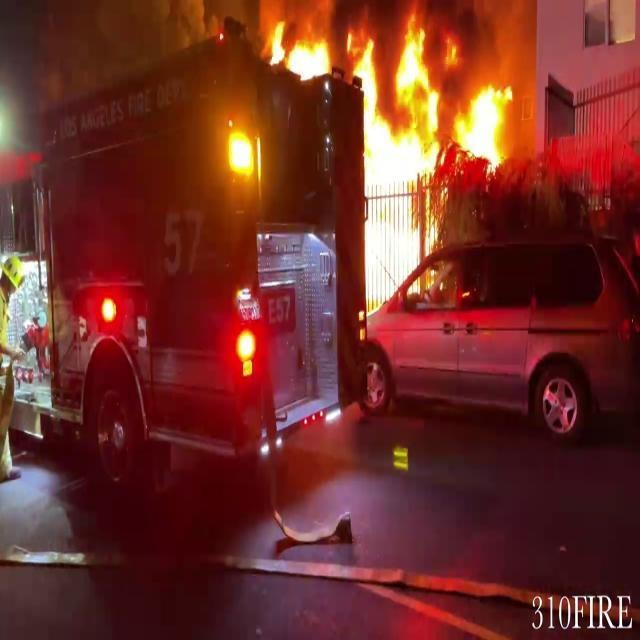Fire: (351, 9, 450, 300), (452, 51, 528, 176), (263, 9, 329, 88)
